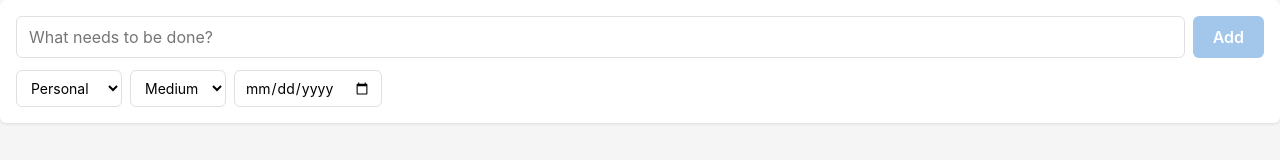
Test: TodoForm › enables the Add button when input has text
Type "Test task" into the field with placeholder "What needs to be done?" at (600, 37), box [16,16,1185,58]
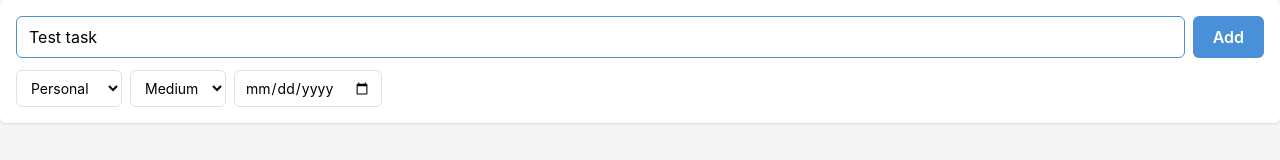
expect the button "Add" is enabled: met, box [1193,16,1264,58]
